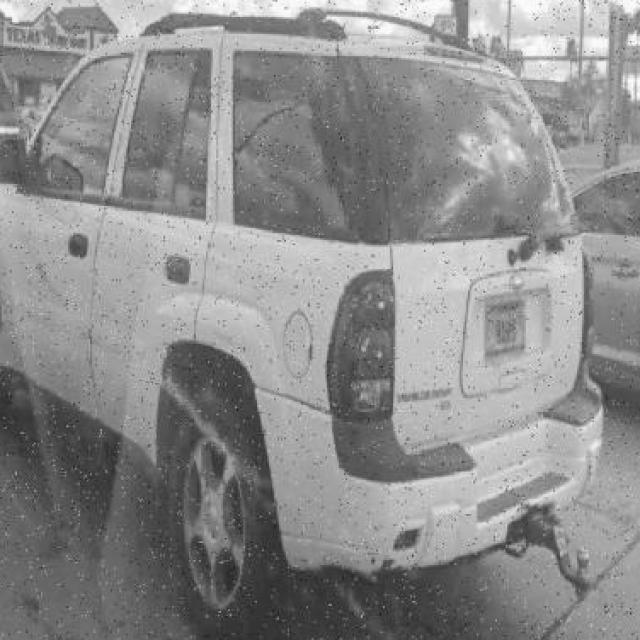licenseplate: (482, 293, 525, 362)
